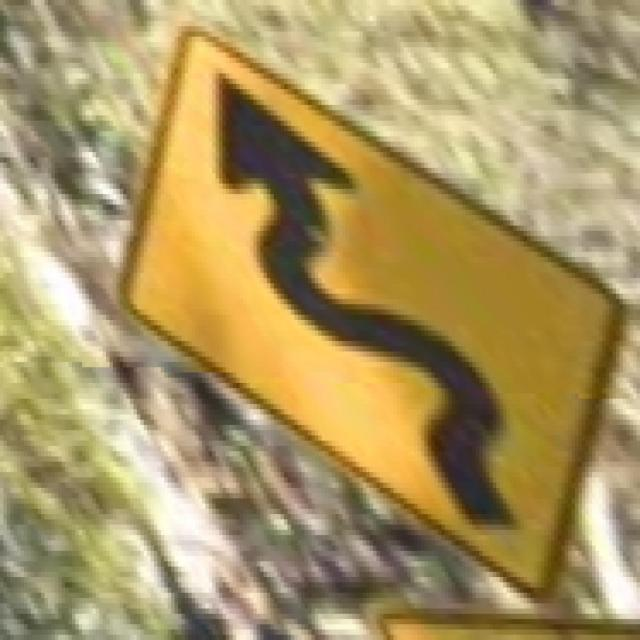Banyak Tikungan Pertama Kanan: (109, 16, 626, 603)
